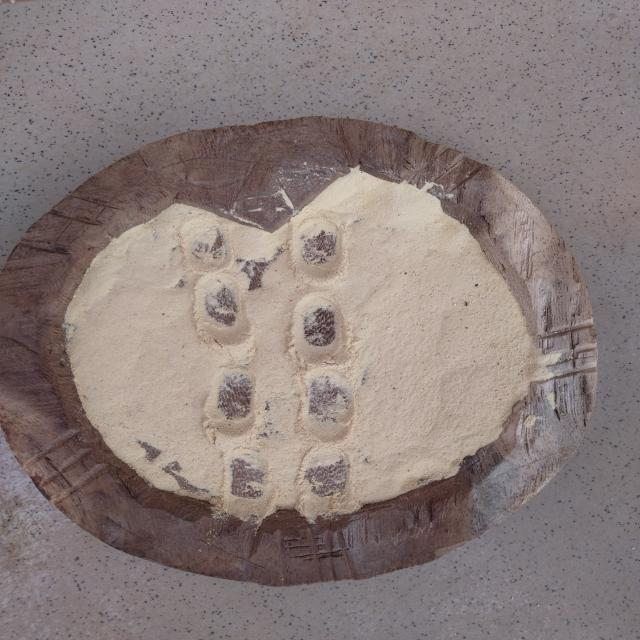single: (190, 270, 258, 350), (288, 290, 352, 368), (202, 366, 262, 444), (295, 444, 363, 512), (298, 370, 359, 445), (216, 448, 282, 514), (290, 214, 352, 284), (176, 215, 236, 273)
